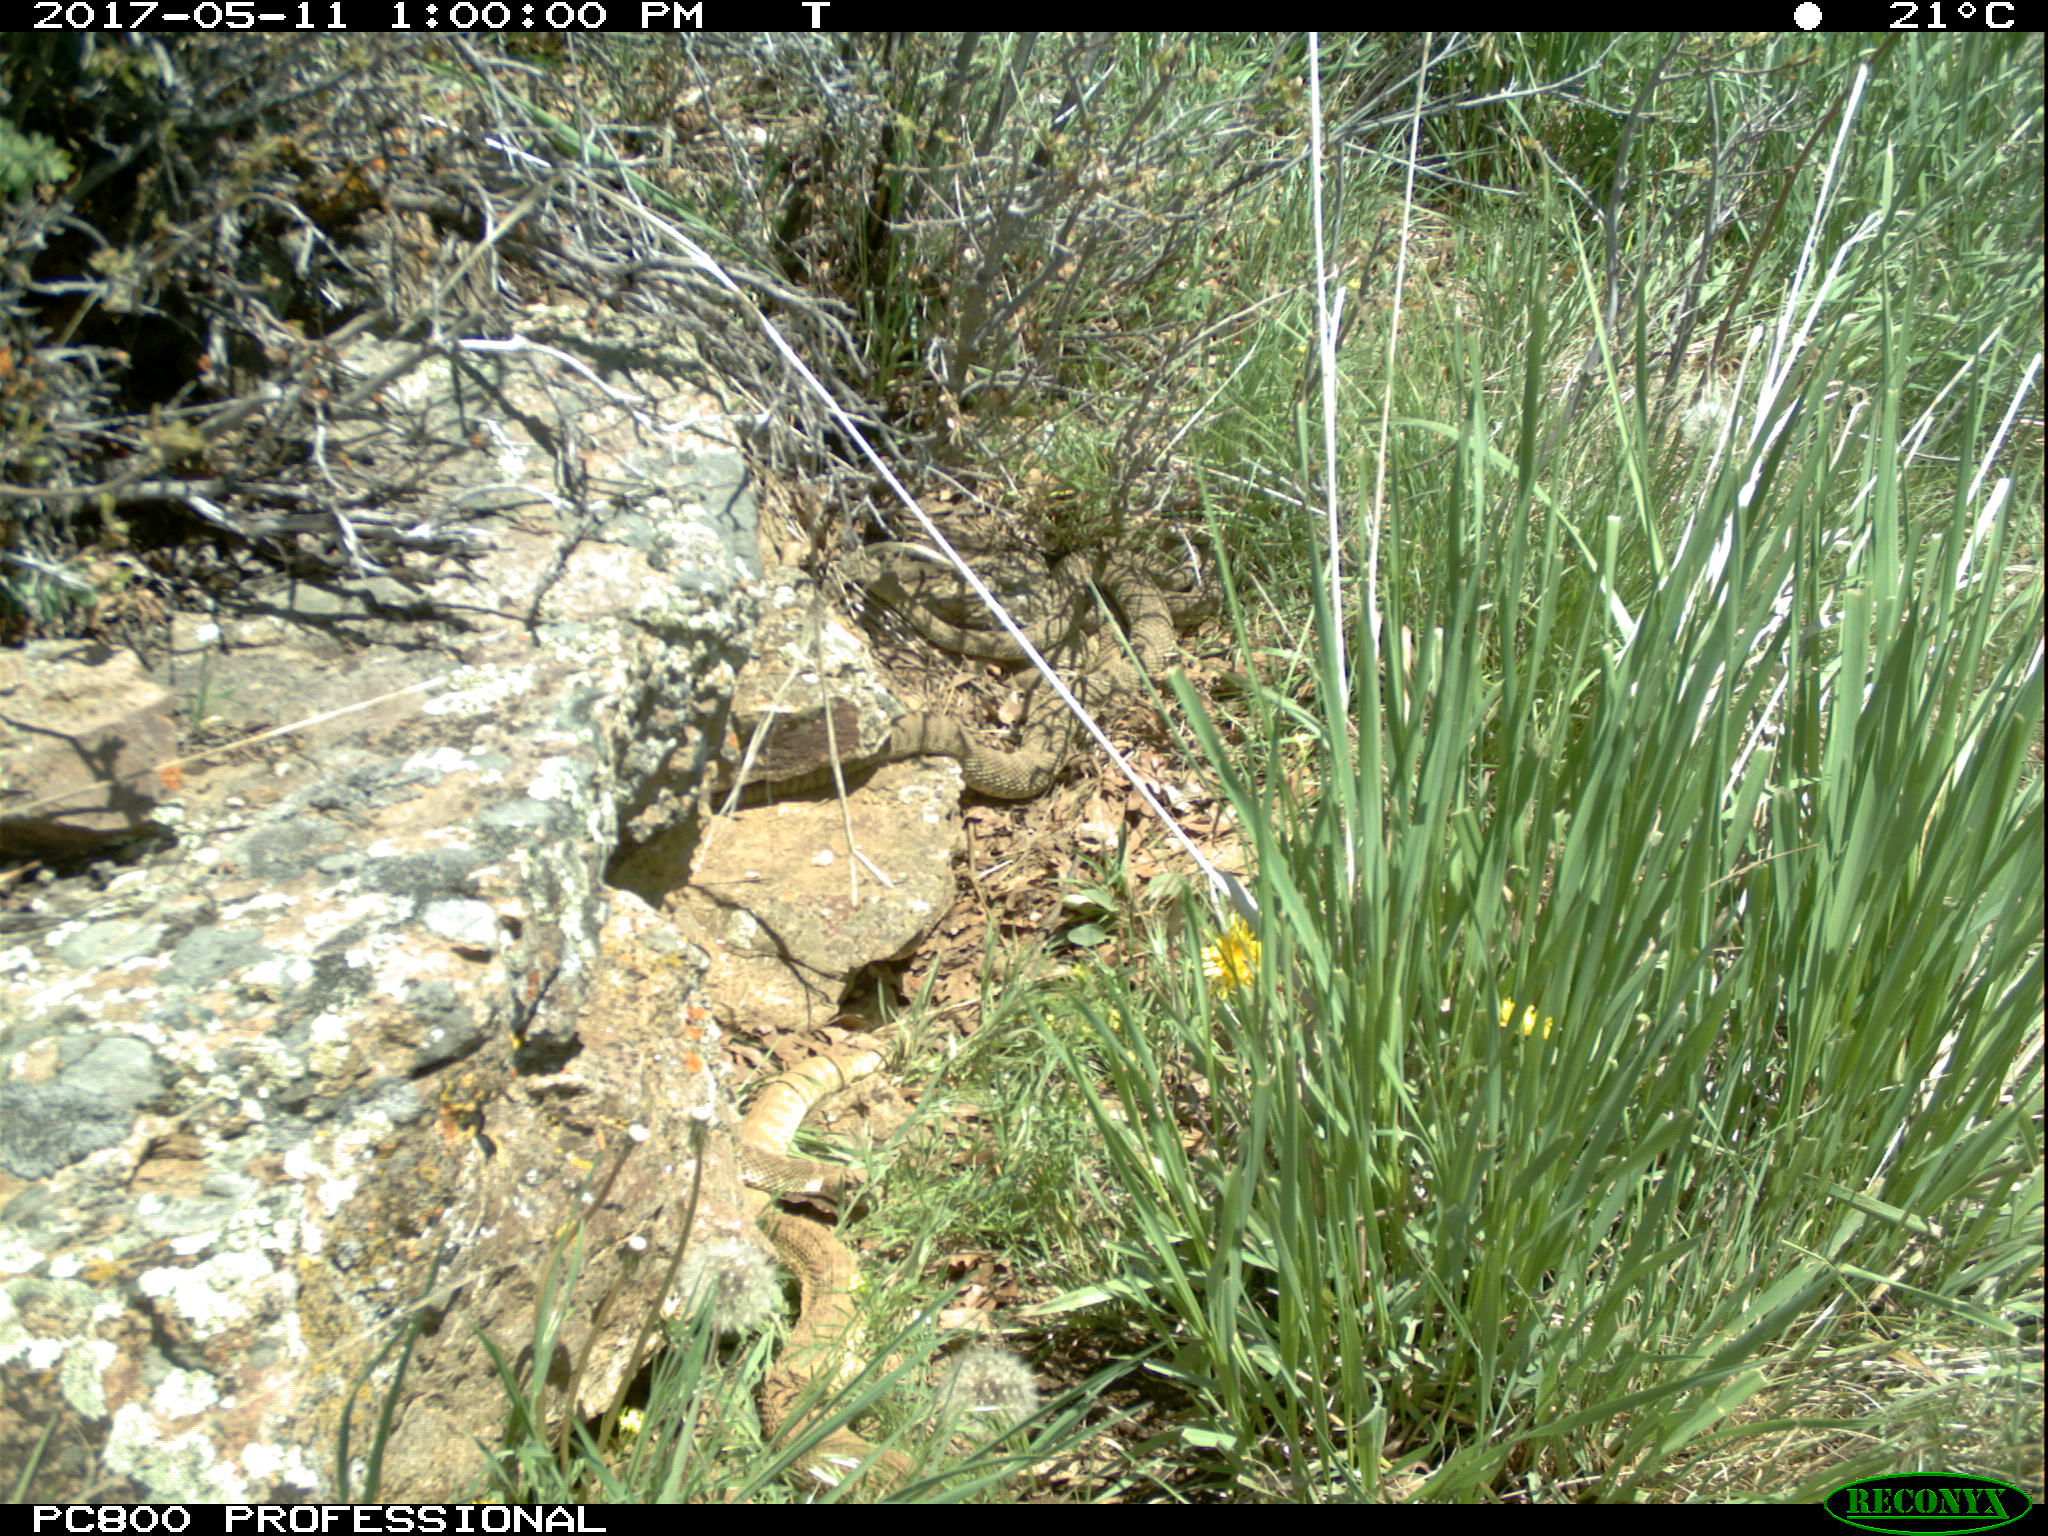snake: (737, 1020, 939, 1492), (882, 563, 1174, 695), (869, 703, 1071, 813)
